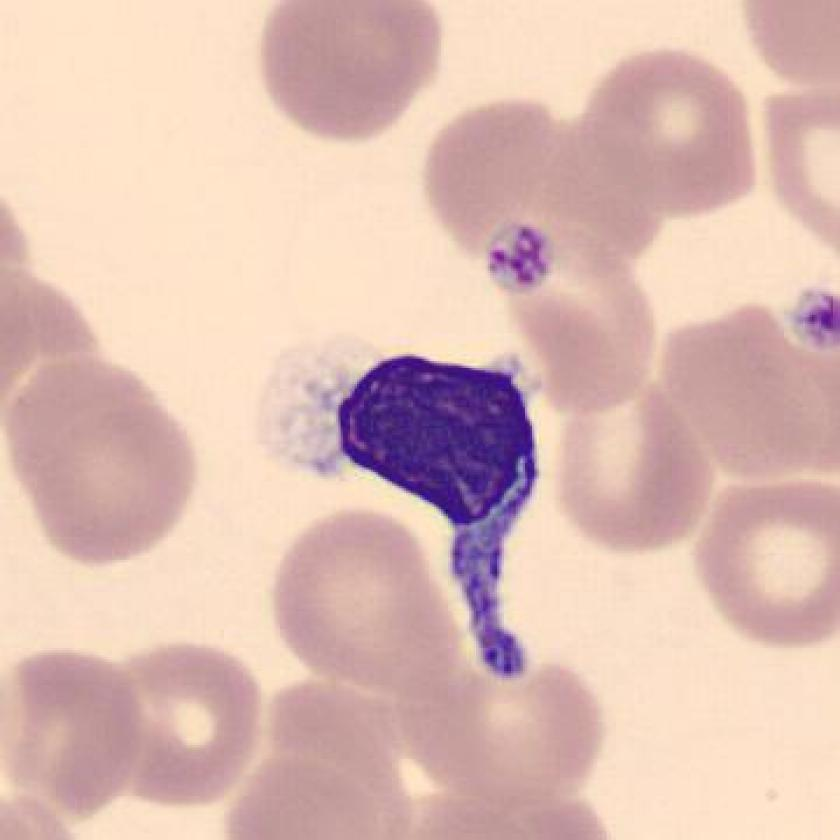lymphocyte: (258, 314, 566, 698)
